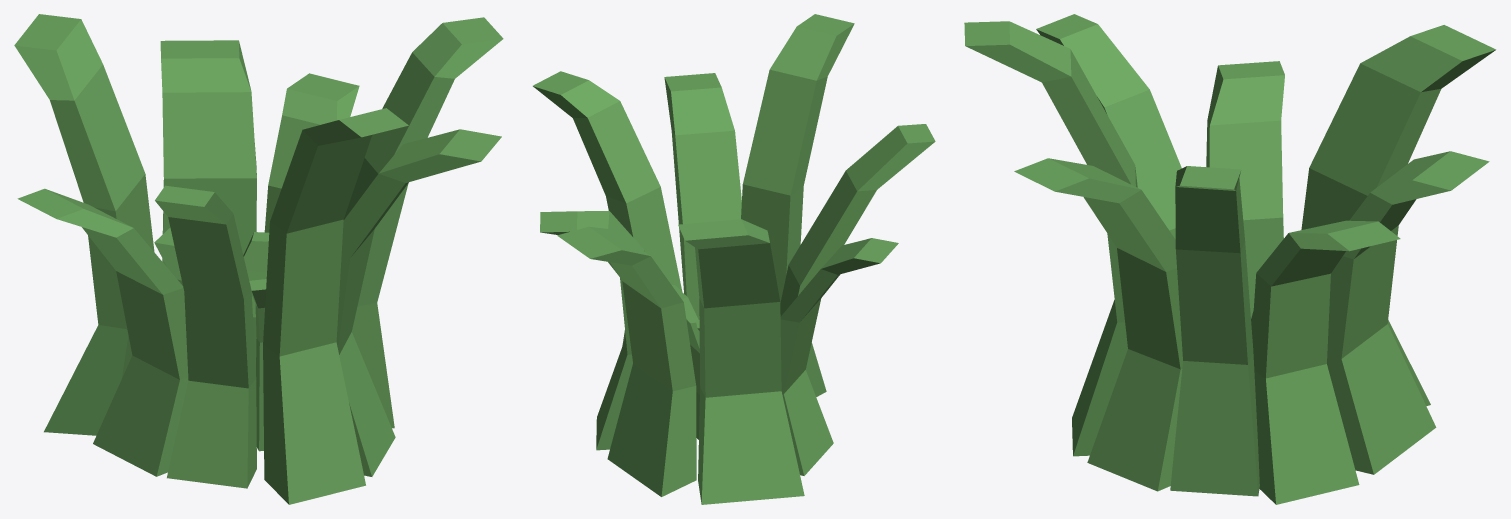
The model's file is Grass__2.glb.
3 renders of one model, left to right at view 1: azimuth 30°, elevation 25°; view 2: azimuth 150°, elevation 25°; view 3: azimuth 270°, elevation 25°, orthographic. The views are drawn at different scales.
Parts seen in each view (by area): view 1: Grass #2; view 2: Grass #2; view 3: Grass #2.
Part boxes in pixels (box(x1,y1,x2,y2)): Grass #2: box(14, 14, 503, 504); Grass #2: box(533, 14, 935, 504); Grass #2: box(964, 14, 1495, 504).
Bounding box in the file's own units: 0.2834 × 0.2456 × 0.2915.
